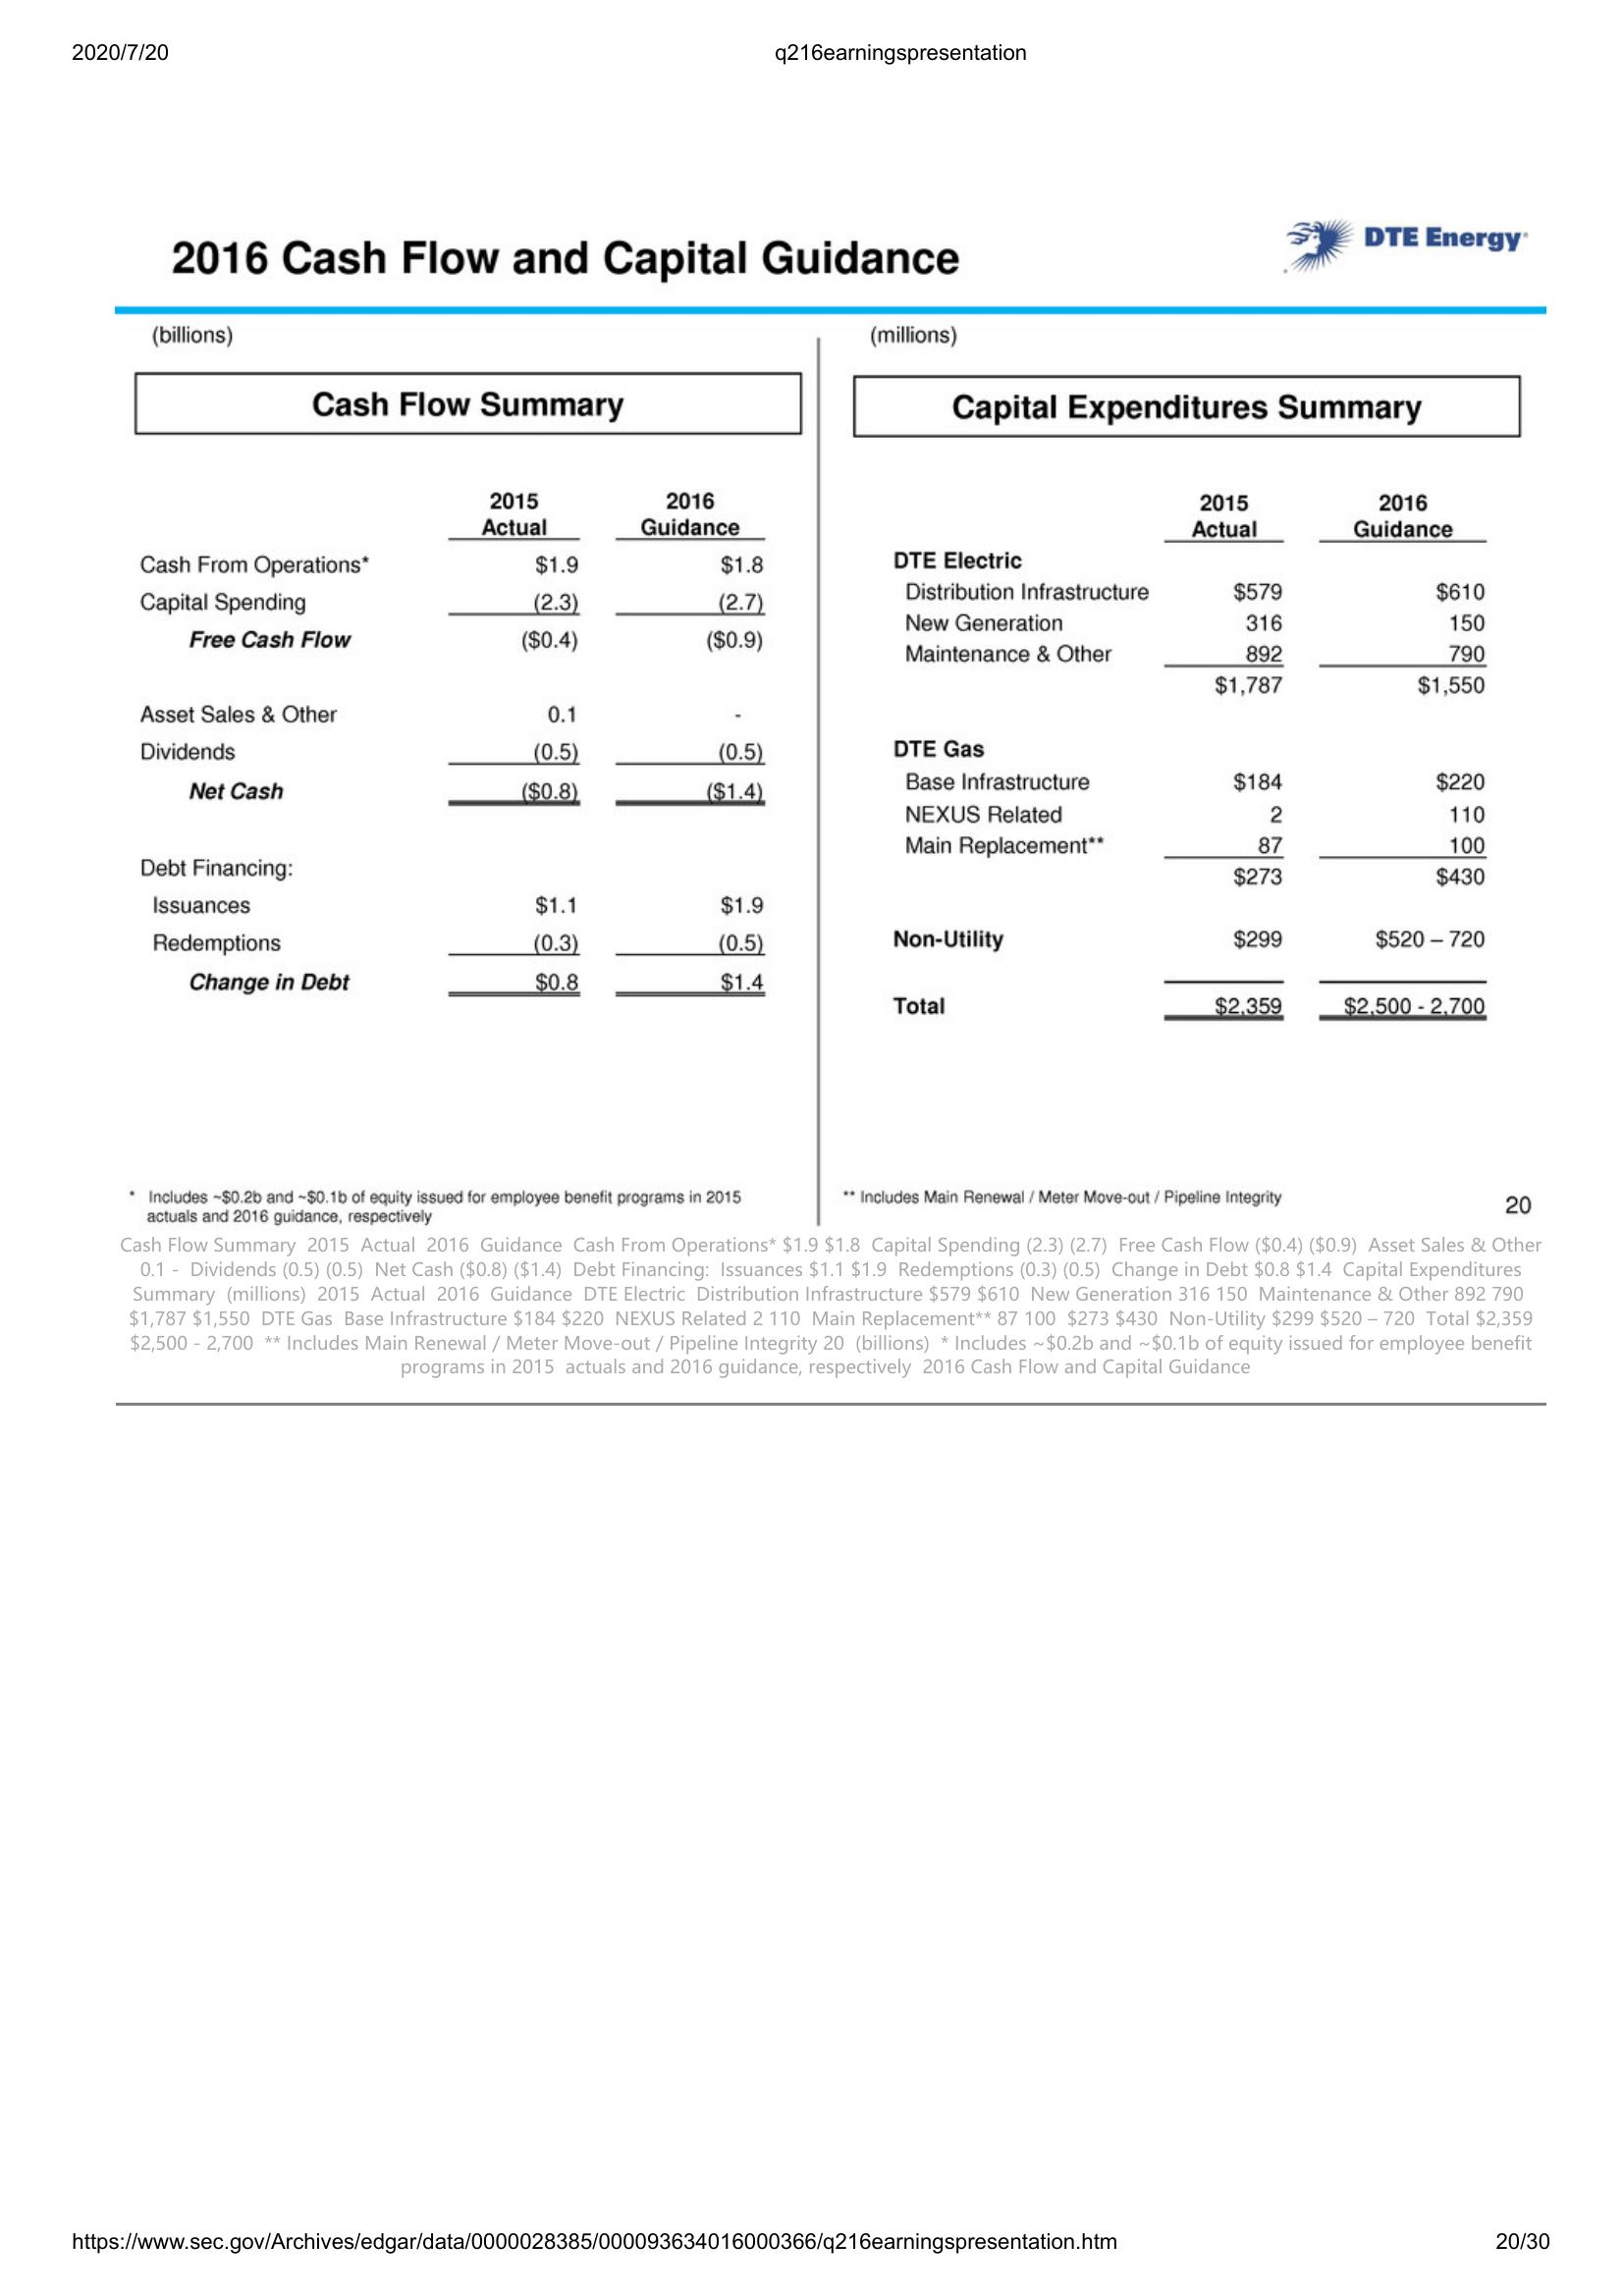table: (840, 369, 1523, 1037), (128, 363, 803, 1006)
